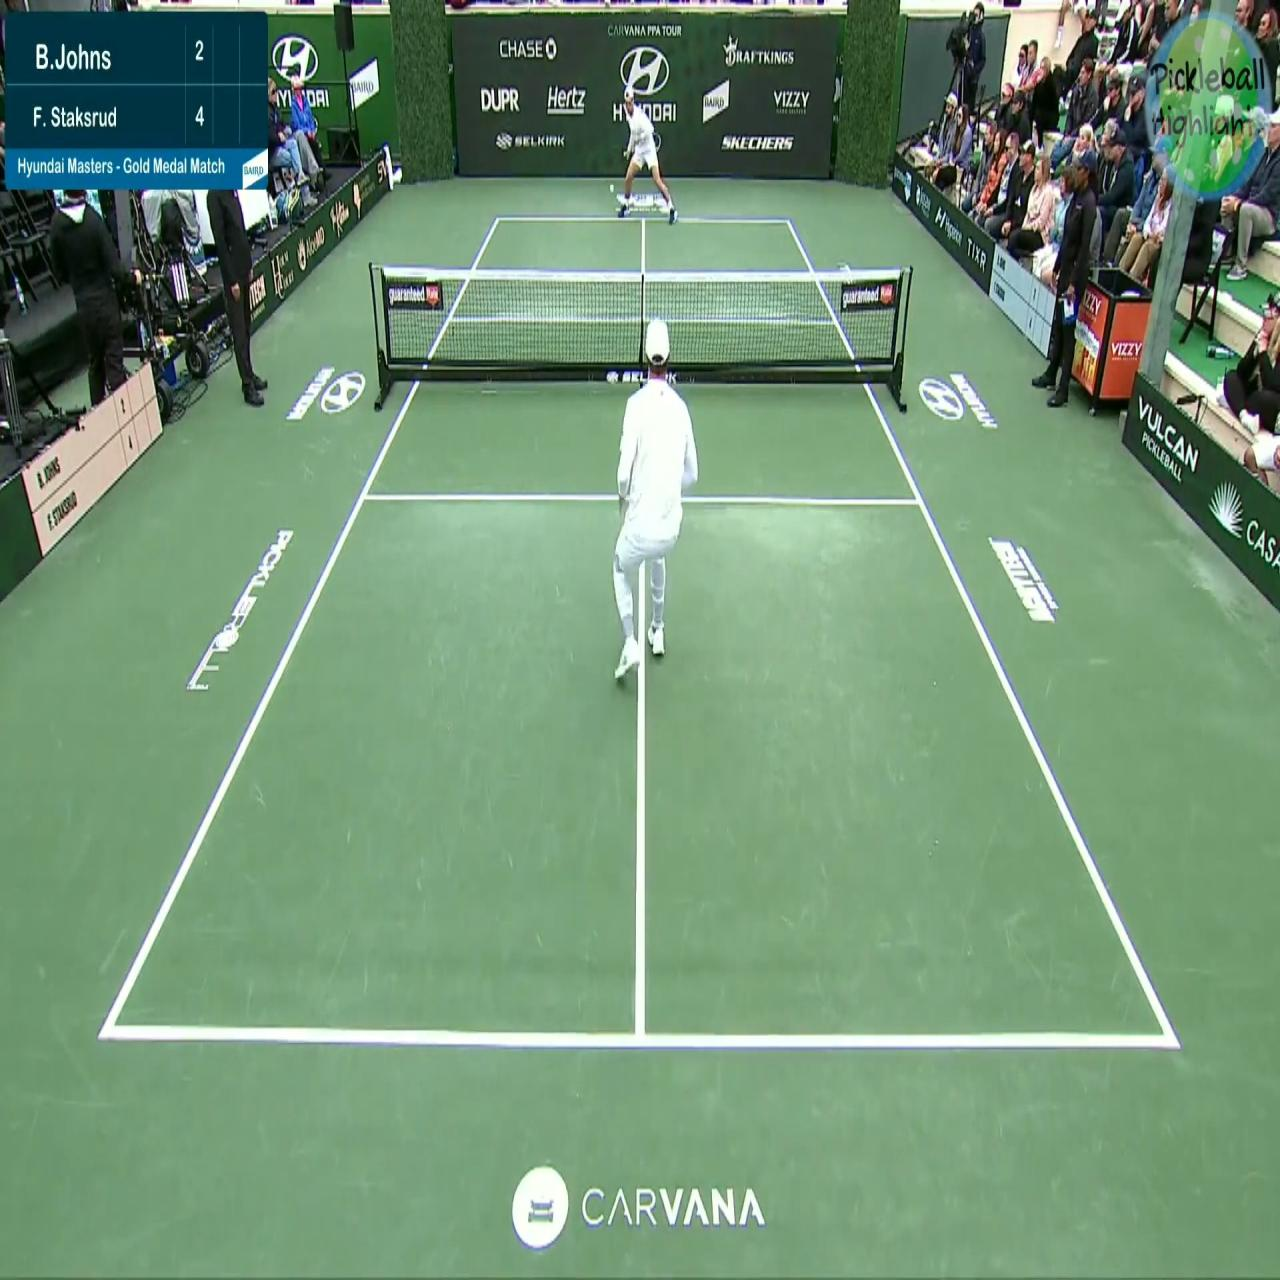pickleball: (608, 183, 614, 193)
